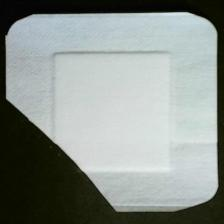Cut: (5, 11, 222, 216)
